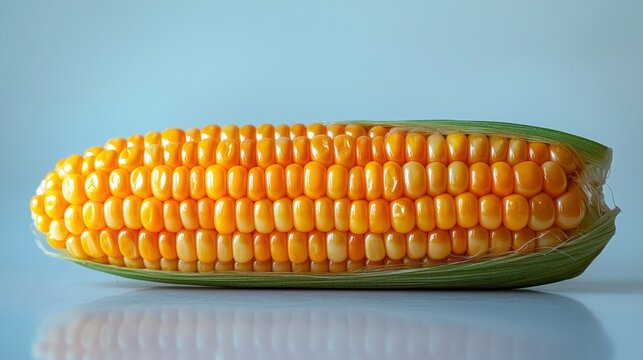corn: (25, 112, 633, 302)
